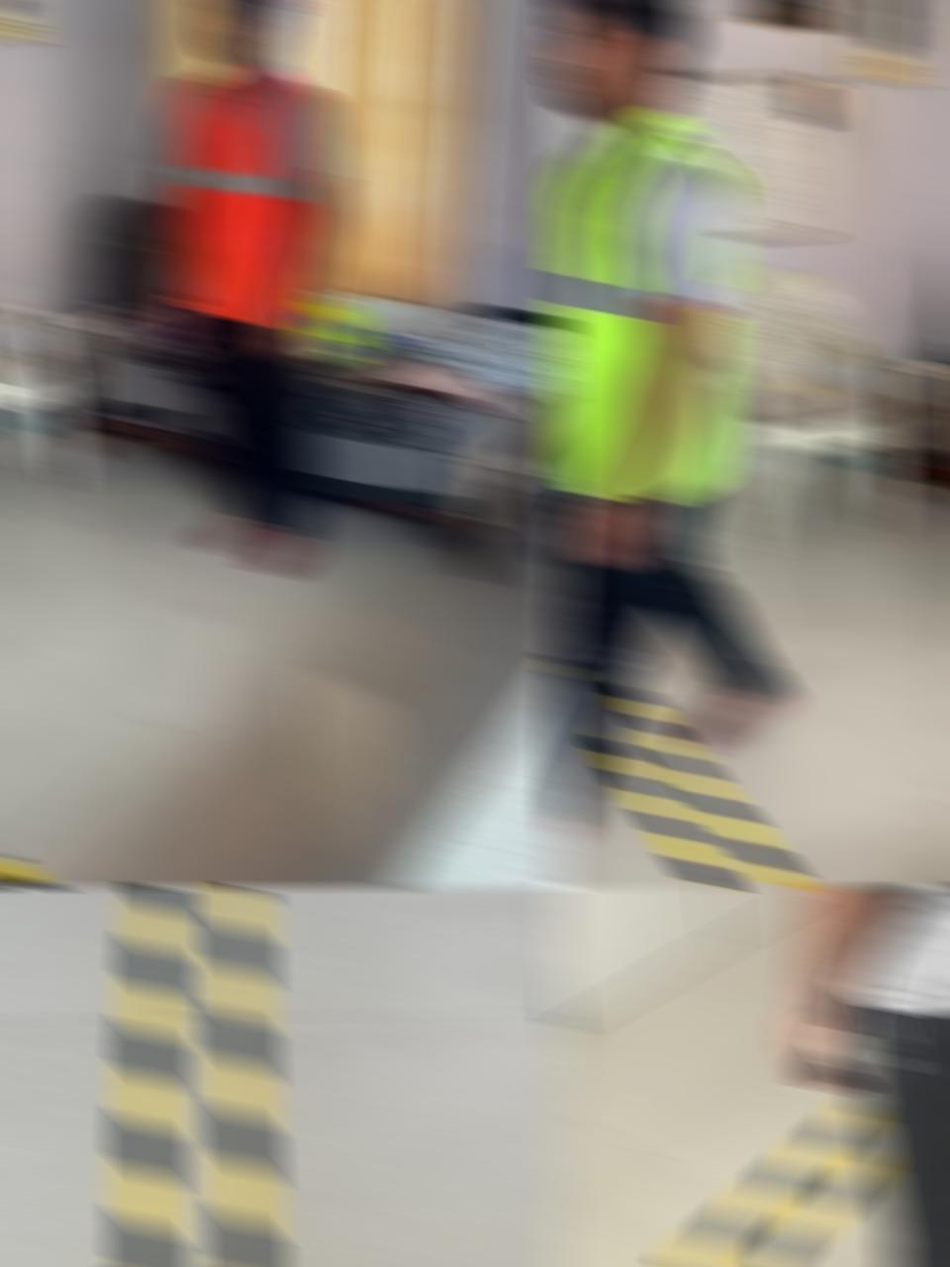BorderLine: (551, 654, 848, 889), (111, 885, 286, 1267), (550, 1098, 888, 1267), (0, 842, 76, 889)
No_Helmet: (550, 0, 698, 85)
Person: (550, 0, 790, 869), (150, 0, 345, 577), (784, 885, 950, 1267)
Vest: (551, 106, 745, 502), (166, 60, 339, 326)
